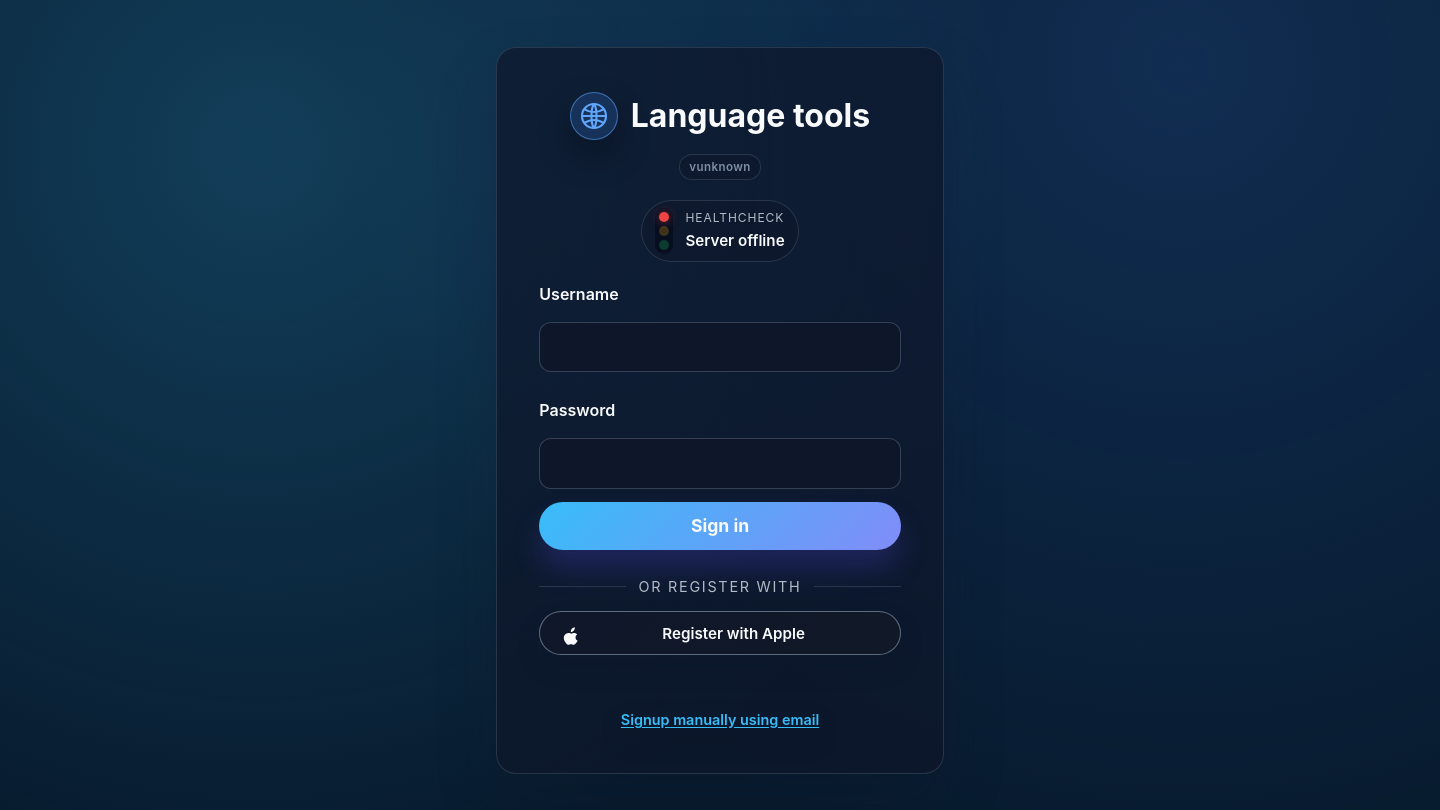
authentication flows › signs a user in and renders the dashboard
The width and height of the screenshot is (1440, 810).
Step 1. Type "alice" into the field labelled "Username" → (720, 347), box [539,322,901,372]
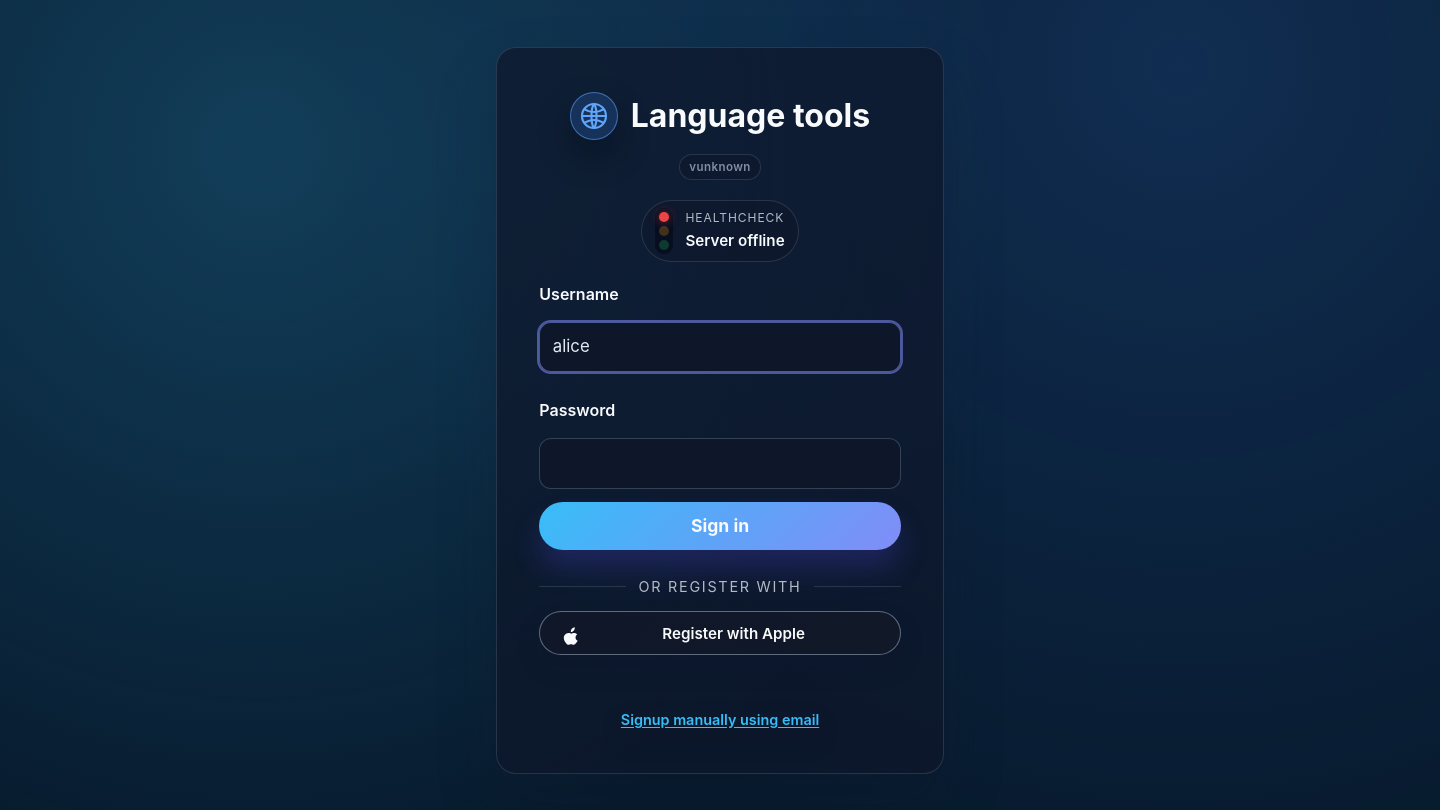
Step 2. Type "secret" into the password field labelled "Password" → (720, 464), box [539,438,901,489]
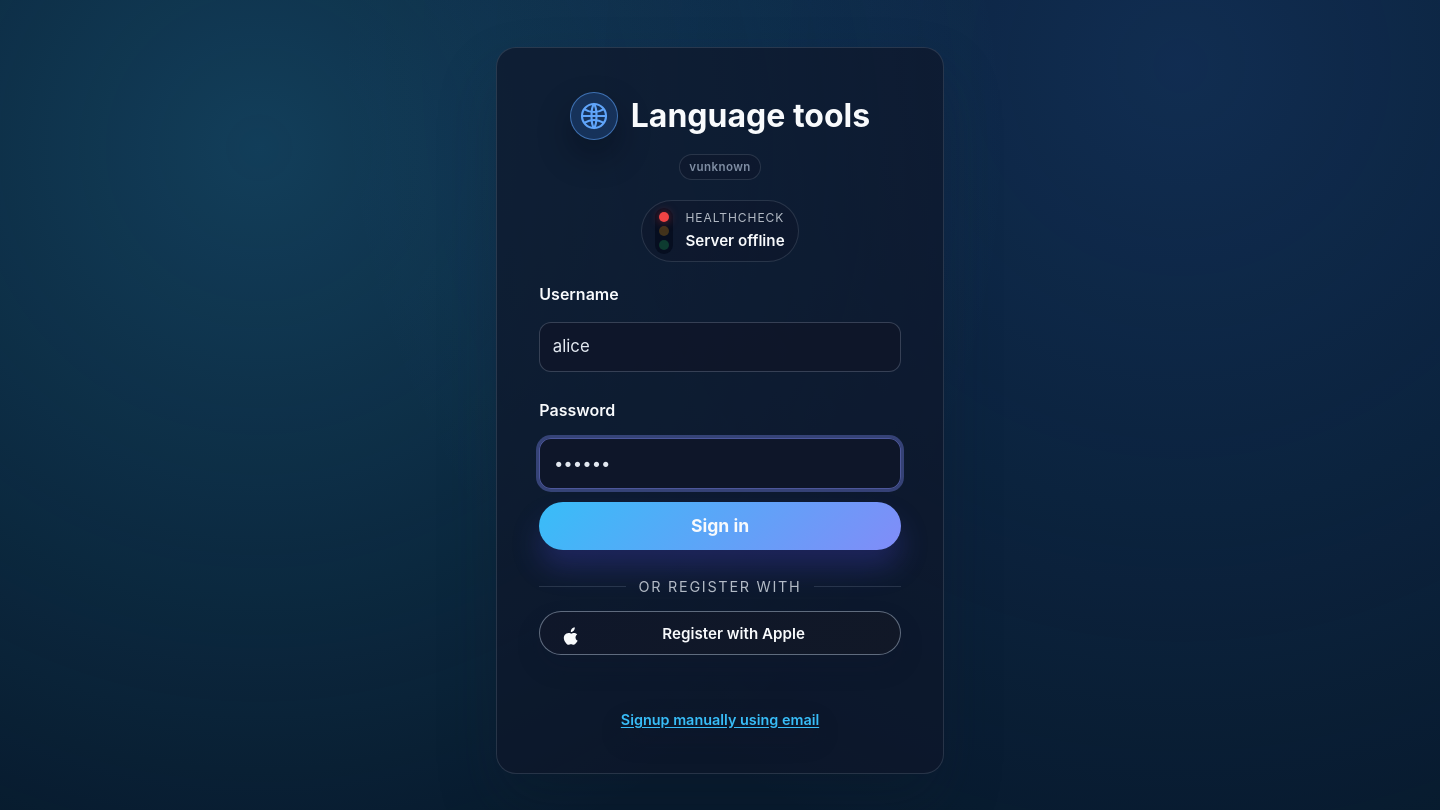
Step 3. Click the button "Sign in" → (720, 526), box [539,502,901,550]
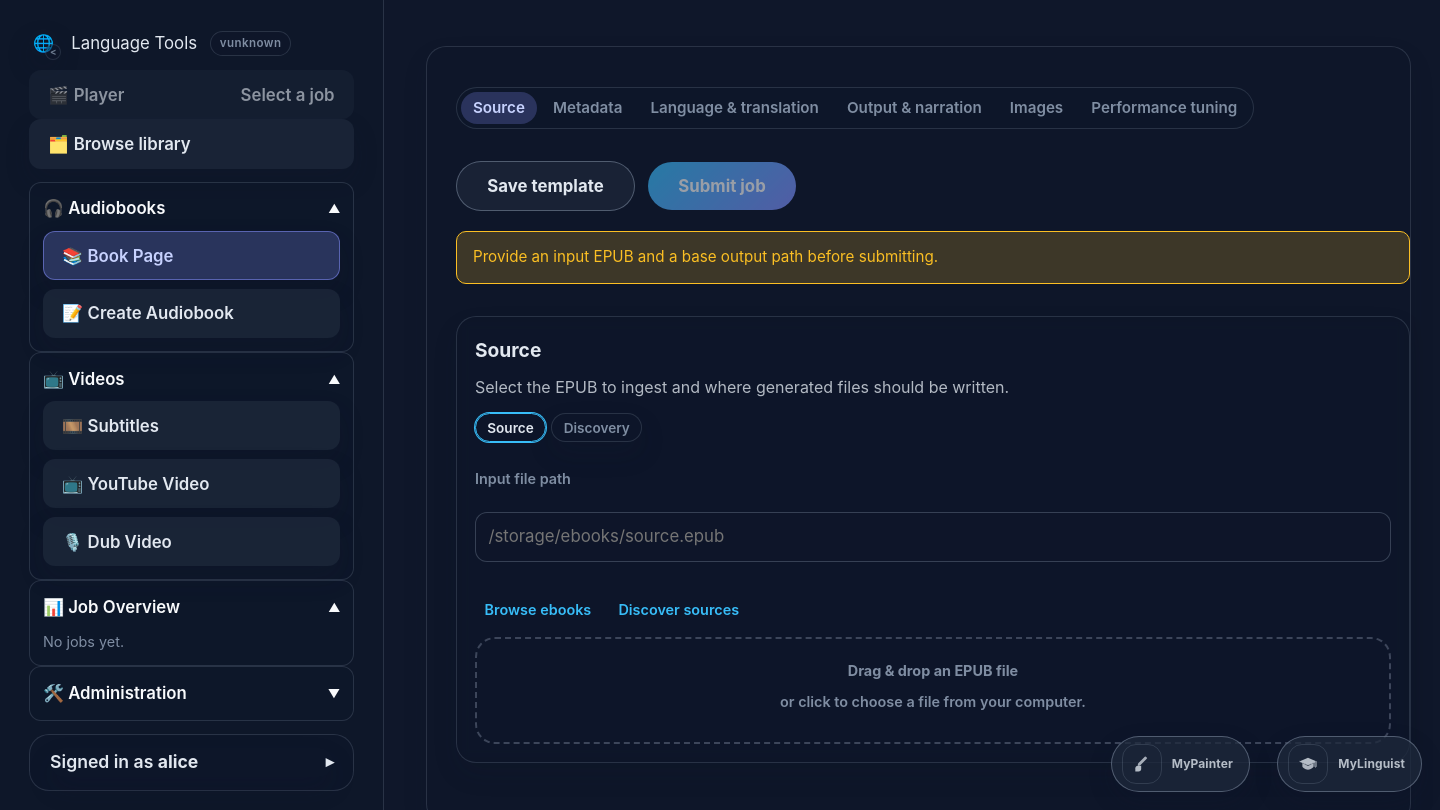
Expected: the text "Signed in as alice" is shown, [50,748,198,776]
Expected: the text "alice" is shown, [158,751,198,772]
